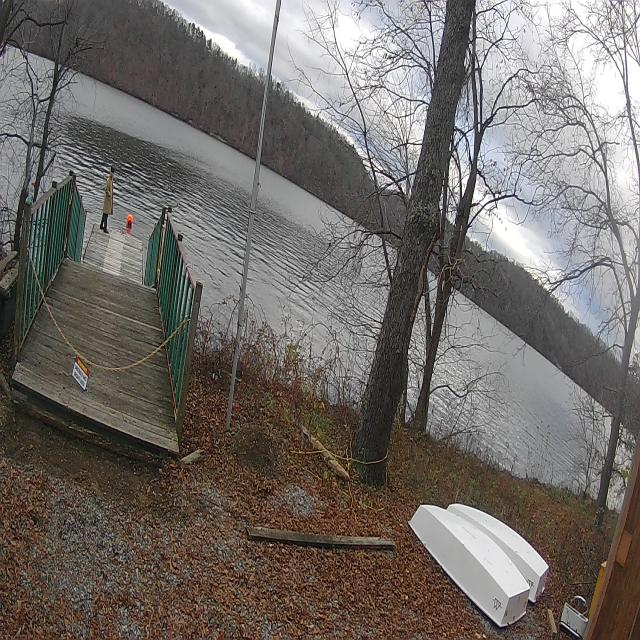Buoy: (126, 214, 133, 227)
